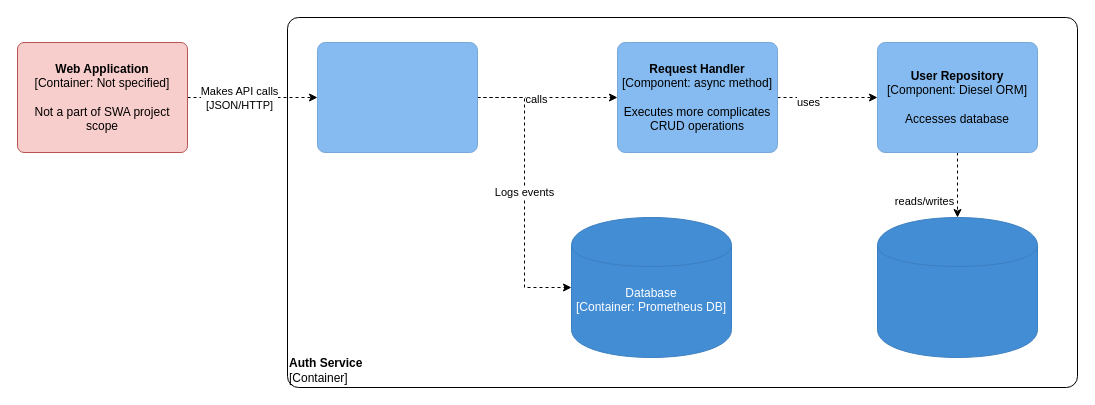
The diagram is 1095 pixels wide and 405 high, and some of its shapes have lost their labels. The box of each missing label's shape, as (x1, y1, x2, y2) in pixels:
Auth Controller [Component: Actix server ] Exposes API to manage products: (316, 42, 478, 152)
Database [Container: Postgres DB]: (876, 216, 1038, 358)
